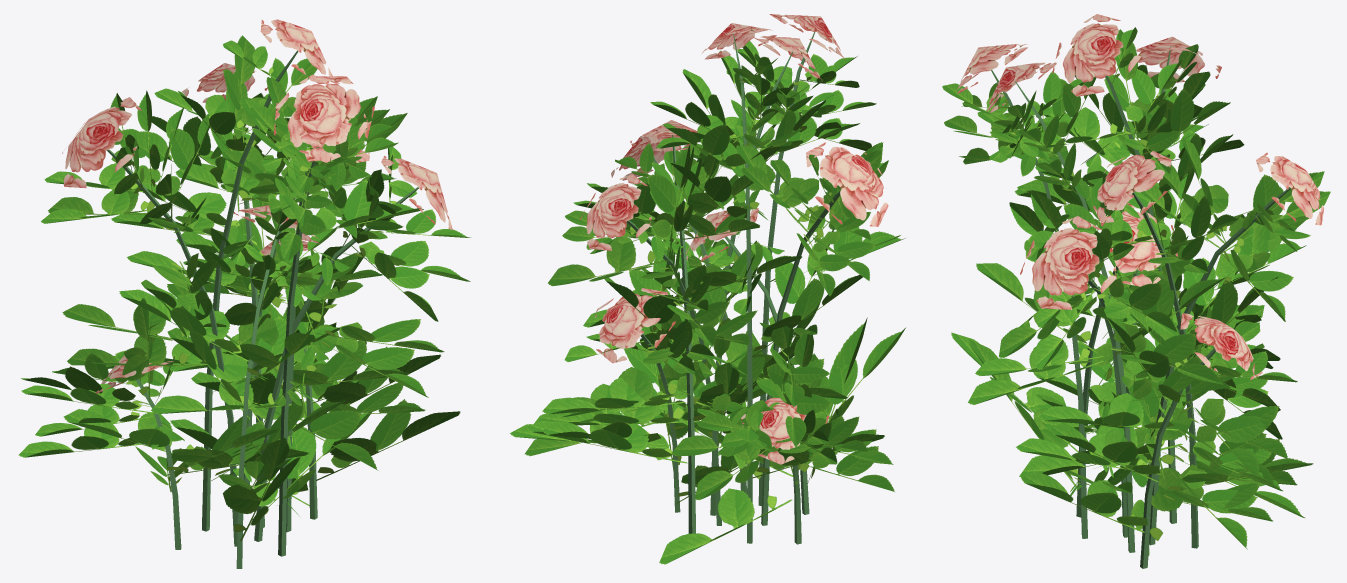
The model's file is 72_floribunda_roses.glb.
3 views of the same model, side by side, from view 1: azimuth 30°, elevation 25°; view 2: azimuth 150°, elevation 25°; view 3: azimuth 270°, elevation 25° (orthographic). The views are drawn at different scales.
Visible parts, largest first — view 1: Tree_0; view 2: Tree_0; view 3: Tree_0.
Part boxes in pixels (left/top/right/bottom): Tree_0: left=18, top=19, right=471, bottom=568; Tree_0: left=510, top=14, right=905, bottom=564; Tree_0: left=942, top=14, right=1330, bottom=568.
Bounding box in the file's own units: 41.87 × 53.67 × 37.2.
Materials: 3 (2 with a texture image).
